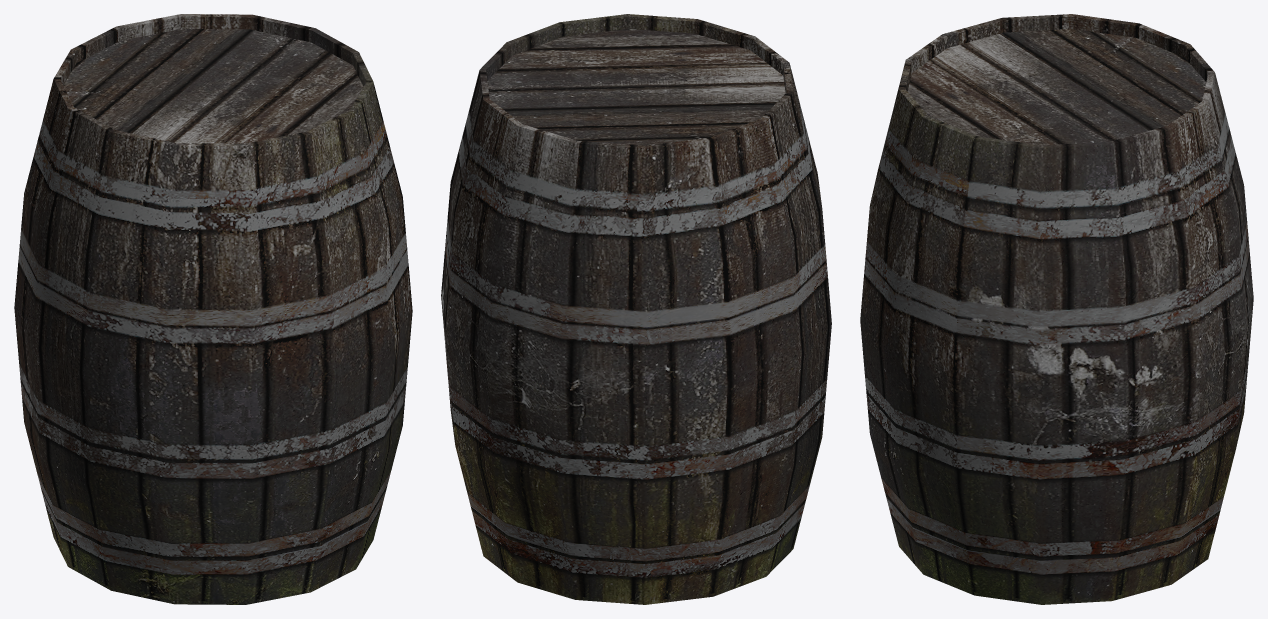
The model's file is barrel.obj.
3 renders of one model, left to right at view 1: azimuth 30°, elevation 25°; view 2: azimuth 150°, elevation 25°; view 3: azimuth 270°, elevation 25°, orthographic.
Parts seen in each view (by area): view 1: wood_barrel_mini; view 2: wood_barrel_mini; view 3: wood_barrel_mini.
Boxes of the visible parts, x1=… form: wood_barrel_mini: x1=14, y1=14, x2=412, y2=604; wood_barrel_mini: x1=441, y1=14, x2=831, y2=604; wood_barrel_mini: x1=860, y1=14, x2=1253, y2=604.
Size of the model in its own units: 62.39 by 79.61 by 62.15.
1 material, 1 textured.
